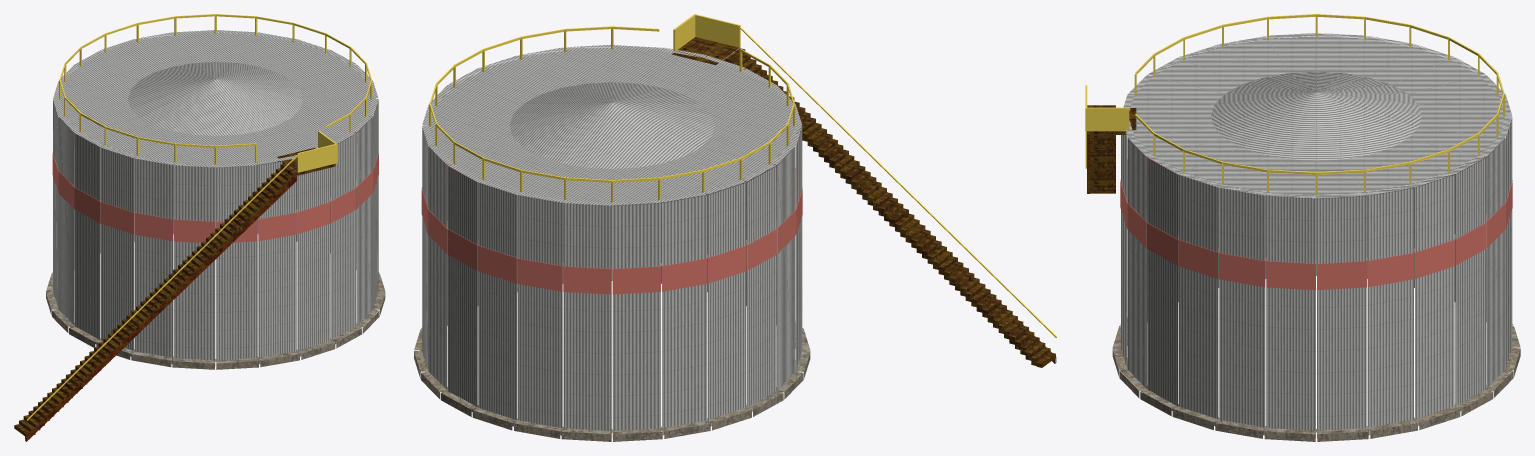
Rendered from ew-tank-white.zfix-v14.lod0.glb.
3 views of the same model, side by side, from view 1: azimuth 30°, elevation 25°; view 2: azimuth 150°, elevation 25°; view 3: azimuth 270°, elevation 25° (orthographic). The views are drawn at different scales.
Visible parts, largest first — view 1: ew-tank-white; view 2: ew-tank-white; view 3: ew-tank-white.
Part boxes in pixels (x1=…): ew-tank-white: x1=14, y1=14, x2=385, y2=441; ew-tank-white: x1=414, y1=14, x2=1056, y2=441; ew-tank-white: x1=1085, y1=14, x2=1520, y2=441.
Size of the model in its own units: 24.97 by 12.35 by 18.13.
Materials: 4 (3 with a texture image).
